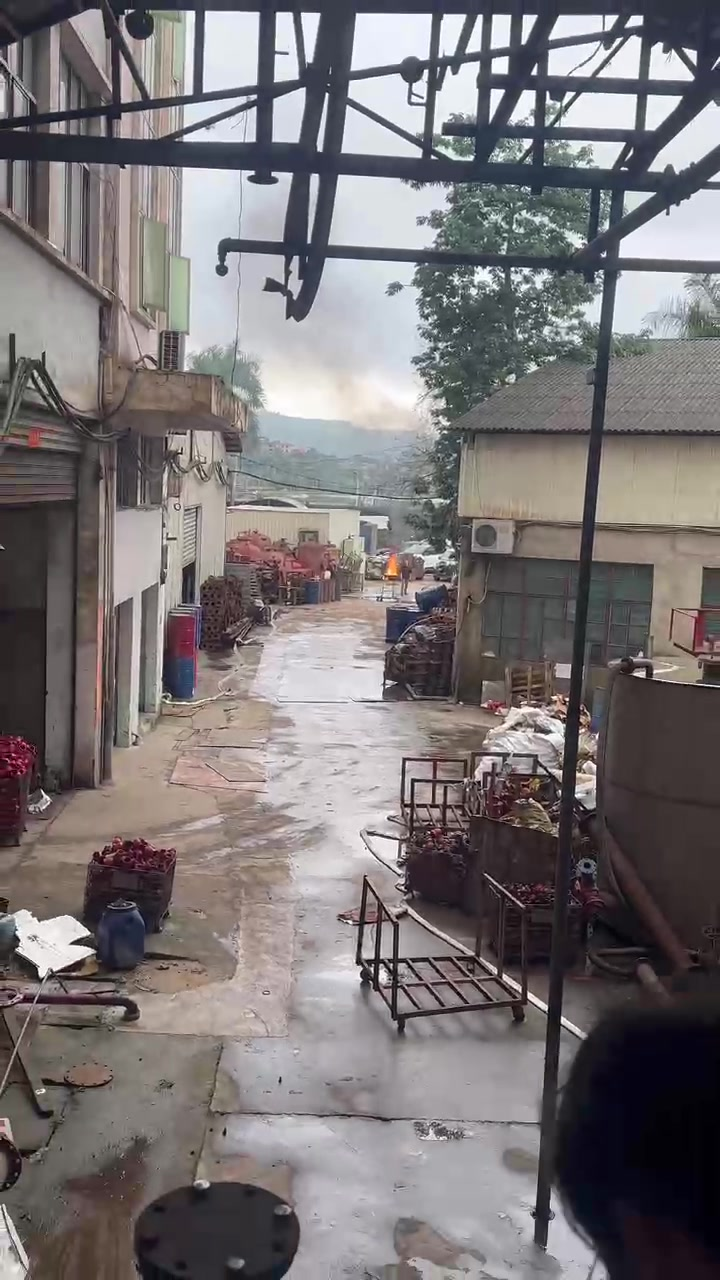fire: (384, 554, 396, 574)
